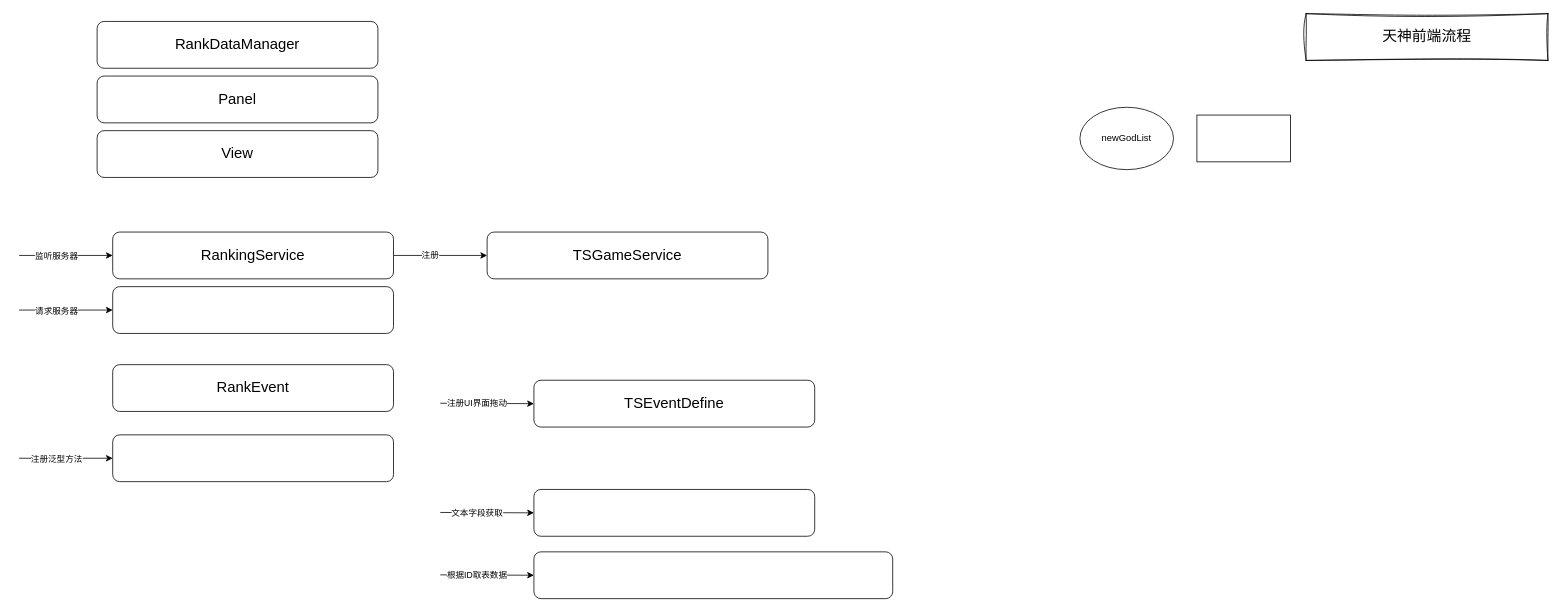
Some shapes in this 1562 by 612 pixel diagram are drawn without their labels. Here are the shapes that lost their labels. From the top down, the box of each, then its label:
(112, 286, 394, 333): RankMessageRequest
(112, 434, 394, 482): ExamplesCfg
(533, 489, 815, 536): TSLocalization.Instance.GetLabel()
(533, 551, 893, 599): TSConfigManager.Instance.GetPropConfigById()
